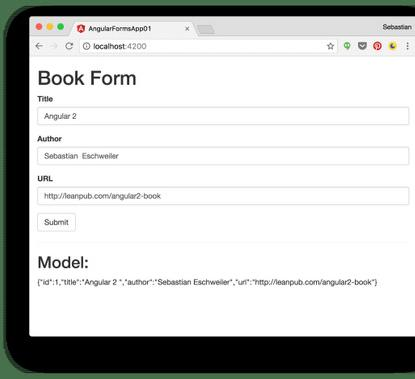button: (35, 212, 78, 232)
field: (34, 144, 411, 168), (36, 184, 412, 207), (36, 105, 412, 126)
field_with_label: (32, 134, 414, 169), (33, 173, 415, 208), (34, 95, 414, 128)
